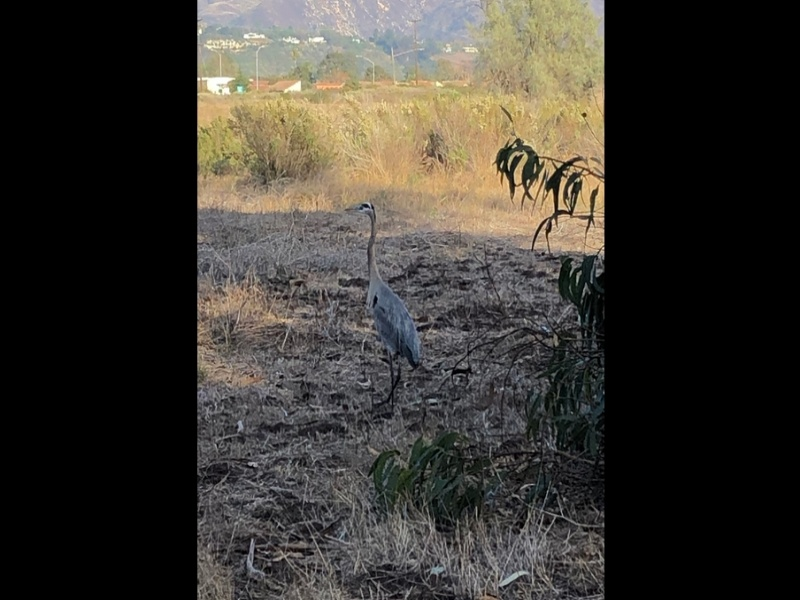heron: (346, 201, 424, 406)
